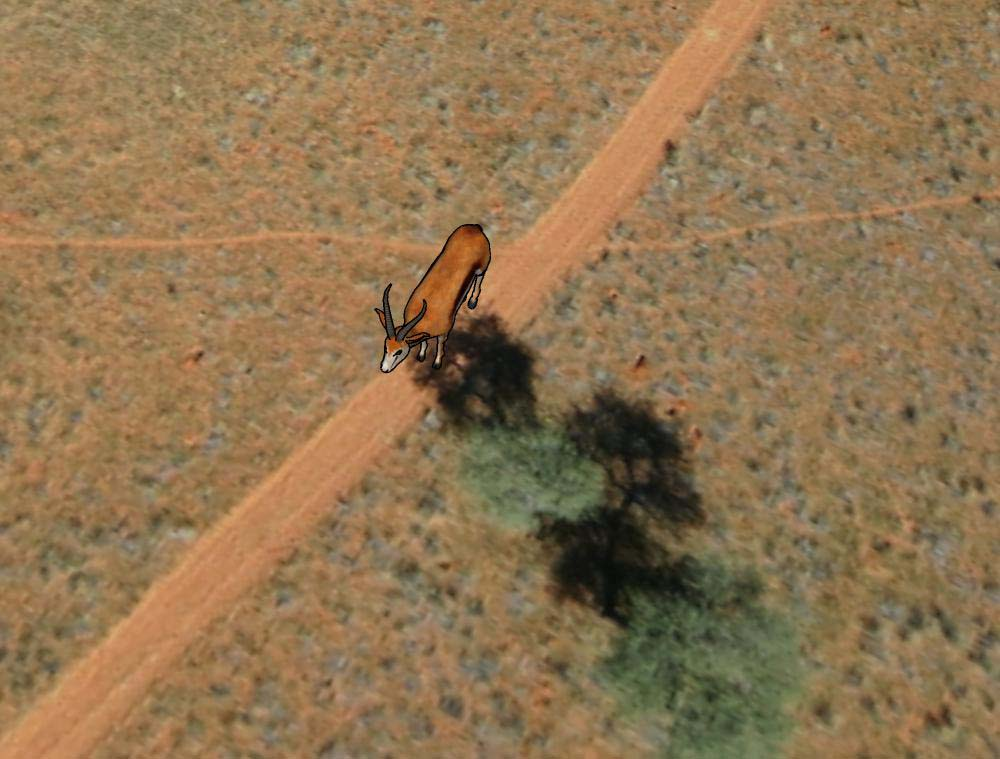springbok: (373, 219, 490, 373)
